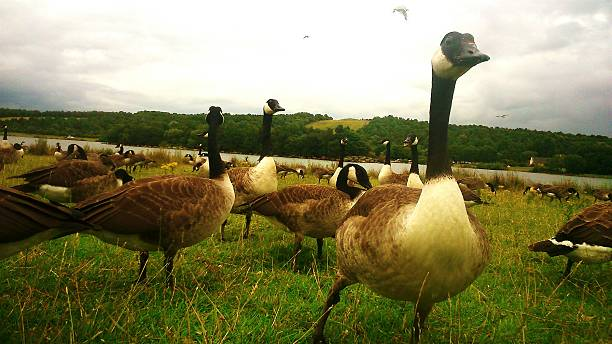goose: (303, 28, 492, 344), (71, 102, 237, 289), (241, 163, 372, 268), (527, 198, 612, 283), (233, 96, 288, 210), (19, 144, 89, 184), (402, 134, 424, 191), (379, 138, 401, 186), (330, 135, 348, 186), (101, 149, 136, 169), (1, 140, 26, 166), (551, 186, 581, 200), (519, 184, 543, 197), (1, 123, 10, 155), (196, 141, 207, 163), (111, 142, 127, 157), (53, 141, 64, 159), (181, 150, 195, 164)
